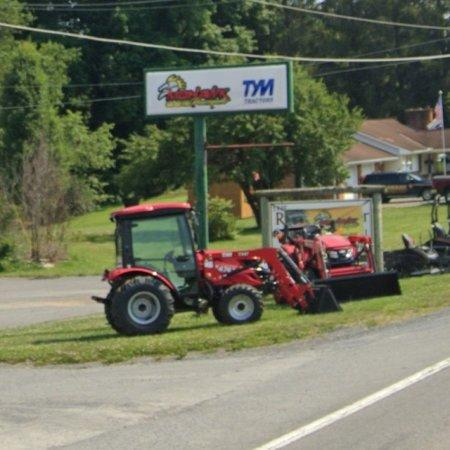tractors: (92, 204, 346, 336), (275, 225, 402, 301)
